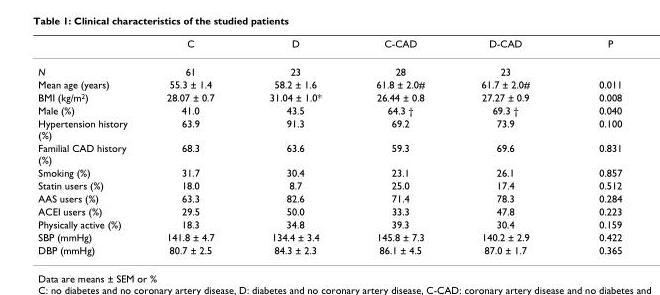table: (37, 37, 621, 255)
table column: (452, 37, 563, 255), (37, 37, 146, 255), (241, 37, 348, 255), (348, 37, 452, 255), (146, 37, 241, 255), (563, 37, 621, 255)
table column header: (37, 37, 621, 57)
table row: (37, 116, 621, 141), (37, 141, 621, 165), (37, 37, 621, 57), (37, 57, 621, 77), (37, 77, 621, 90), (37, 90, 621, 103), (37, 103, 621, 116), (37, 165, 621, 178), (37, 178, 621, 191), (37, 191, 621, 204), (37, 204, 621, 217), (37, 217, 621, 230), (37, 230, 621, 243), (37, 243, 621, 255)
